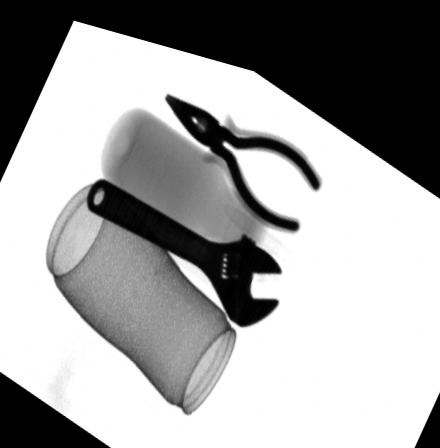Pliers: (162, 80, 323, 218)
Wrench: (85, 171, 281, 316)
